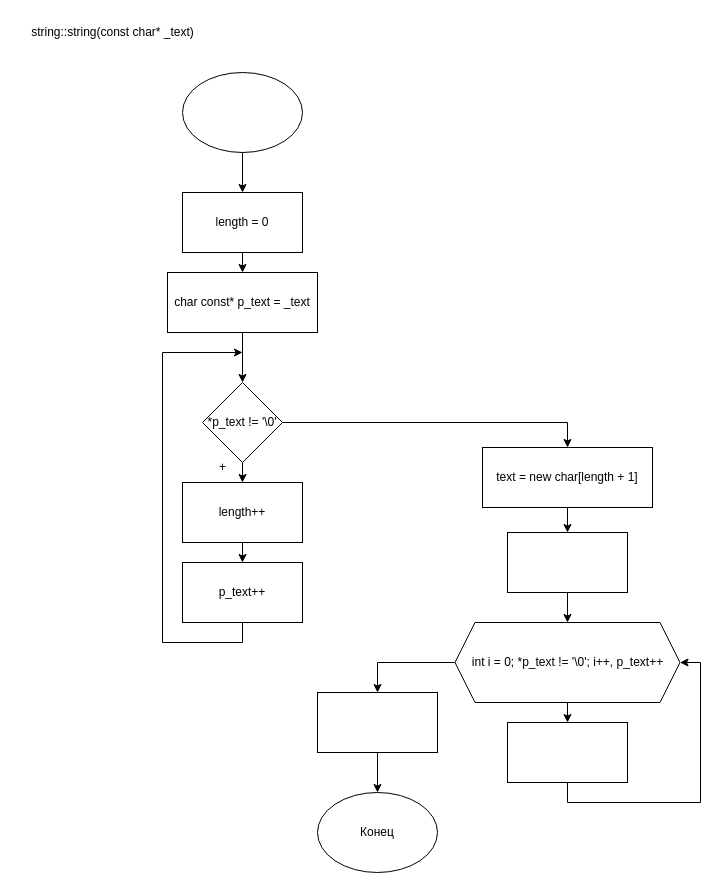
The diagram is 726 pixels wide and 890 high, and some of its shapes have lost their labels. Here are the shapes that lost their labels. From the top down, the box of each, then its label:
(182, 72, 302, 152): Начало
(506, 532, 628, 592): p_text = _text
(316, 692, 438, 752): text[length] = '\0'
(506, 722, 628, 782): text[i] = *p_text
